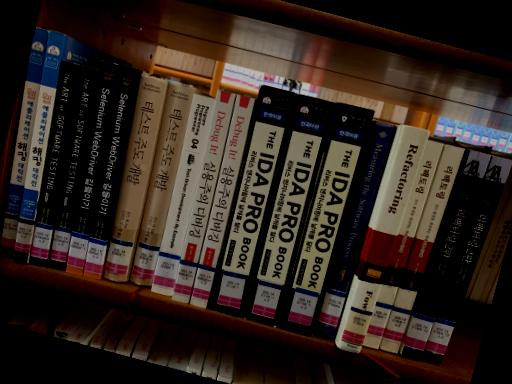book-spine: (279, 101, 375, 336), (337, 124, 430, 353), (243, 94, 334, 326), (209, 85, 296, 317), (400, 149, 491, 360), (421, 155, 512, 364), (314, 120, 394, 340), (380, 144, 464, 353), (361, 140, 443, 349), (189, 94, 255, 309), (171, 89, 236, 303), (103, 73, 168, 281), (151, 93, 216, 296), (130, 82, 194, 287), (12, 30, 64, 264), (83, 65, 138, 280), (65, 59, 119, 275), (0, 27, 48, 259), (28, 60, 80, 267), (48, 66, 99, 270)
